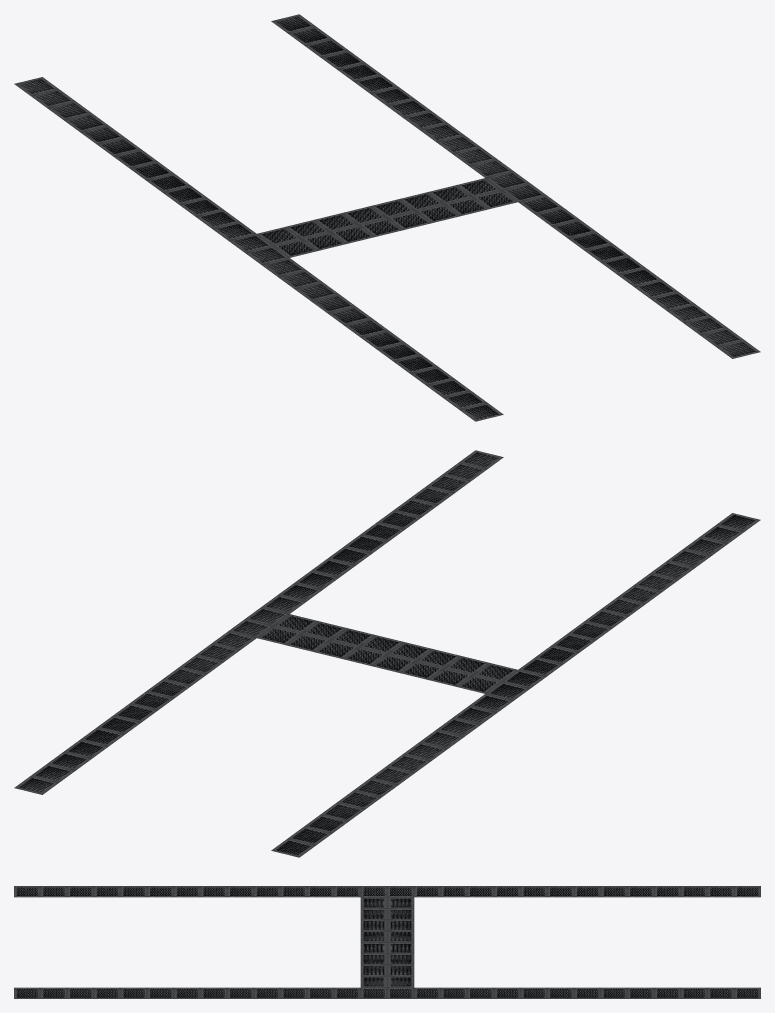
Rendered from GradeSalaCobaias.fbx.
3 views of the same model, one above another, from view 1: azimuth 30°, elevation 25°; view 2: azimuth 150°, elevation 25°; view 3: azimuth 270°, elevation 25° (orthographic). The views are drawn at different scales.
Parts seen in each view (by area): view 1: no part large enough to name; view 2: no part large enough to name; view 3: ROOM_WALL.097, ROOM_WALL.228, ROOM_WALL.232, ROOM_WALL.233, ROOM_WALL.234, ROOM_WALL.237, ROOM_WALL.039, ROOM_WALL.212, ROOM_WALL.226, ROOM_WALL.227, ROOM_WALL.229, ROOM_WALL.230 (+60 smaller).
Boxes of the visible parts, x1,y1,x2,y2 form: ROOM_WALL.097: (387,897,414,908); ROOM_WALL.228: (387,931,414,942); ROOM_WALL.232: (387,976,414,987); ROOM_WALL.233: (360,976,387,987); ROOM_WALL.234: (360,897,387,908); ROOM_WALL.237: (360,931,387,942); ROOM_WALL.039: (387,886,414,897); ROOM_WALL.212: (387,987,414,998); ROOM_WALL.226: (387,908,414,919); ROOM_WALL.227: (387,920,414,931); ROOM_WALL.229: (387,942,414,953); ROOM_WALL.230: (387,953,414,964).
Size of the model in its own units: 10 by 1.63e-07 by 28.
